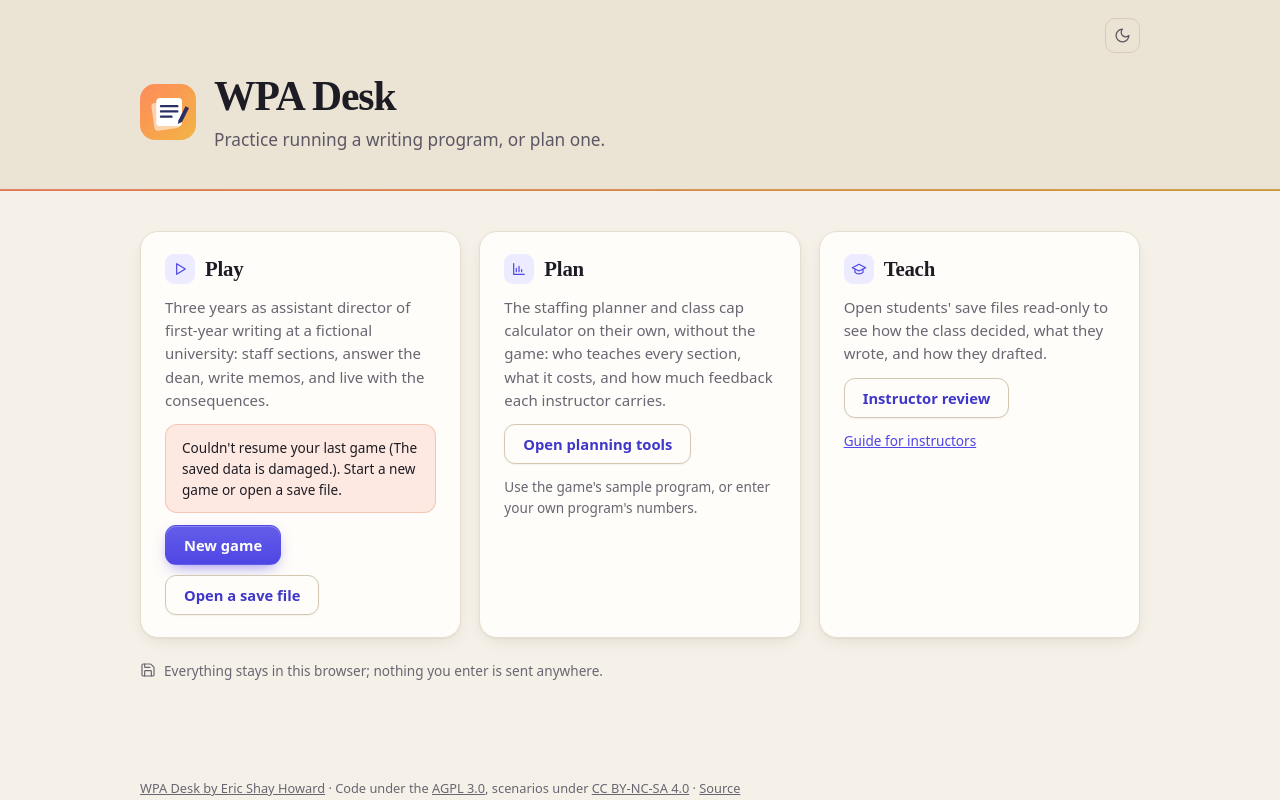
Test: saving and loading › explains a damaged autosave on the start screen, and starts fresh
expect the text "Couldn't resume your last game (The saved data is damaged.)" is shown: met, box [165, 424, 436, 513]
Step 1. Click the button "New game" → (223, 545), box [165, 525, 281, 565]
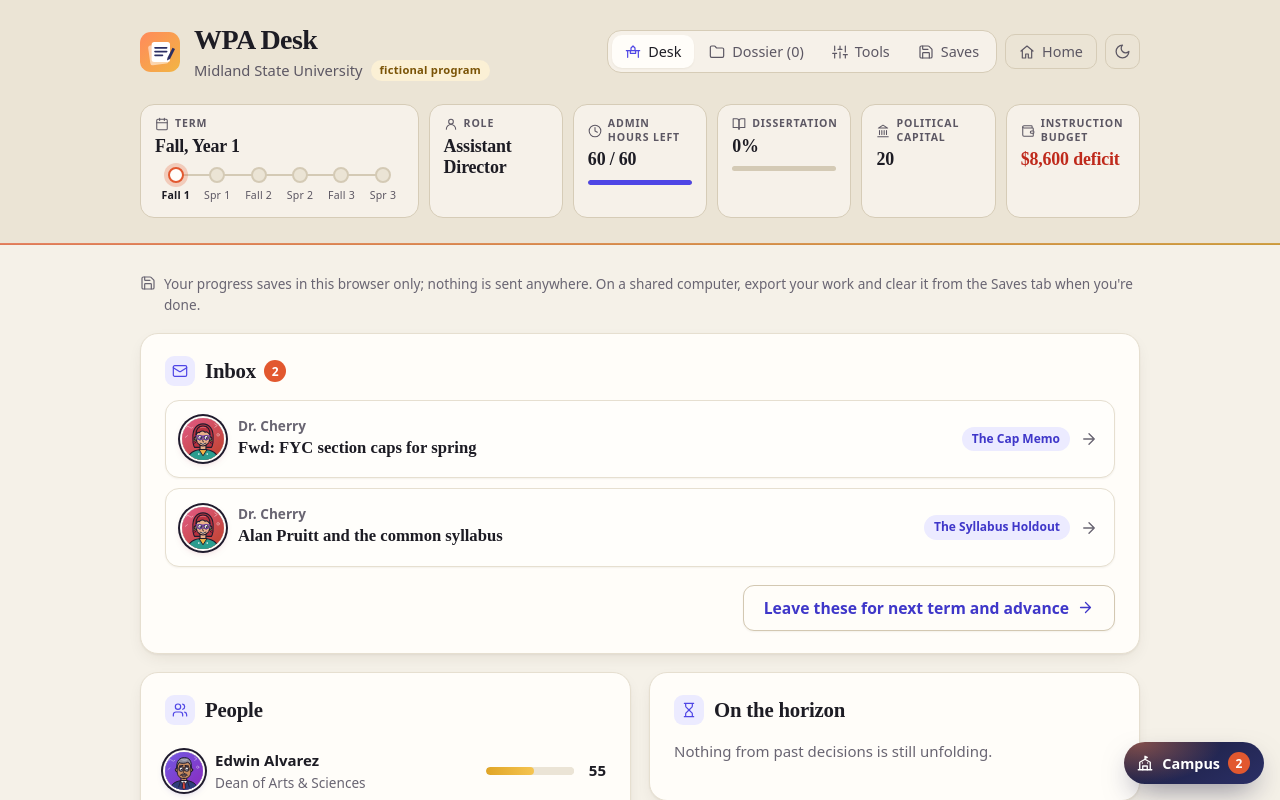
expect the text "Fall, Year 1" is shown: met, box [155, 136, 240, 157]
